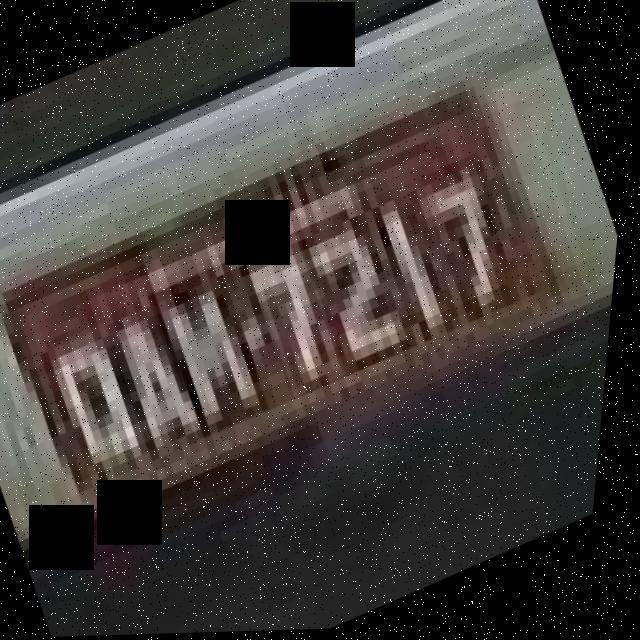7: (411, 154, 544, 332), (242, 234, 364, 401)
A: (107, 292, 227, 470)
I: (361, 176, 476, 353)
M: (144, 262, 286, 440)
Q: (48, 321, 174, 496)
